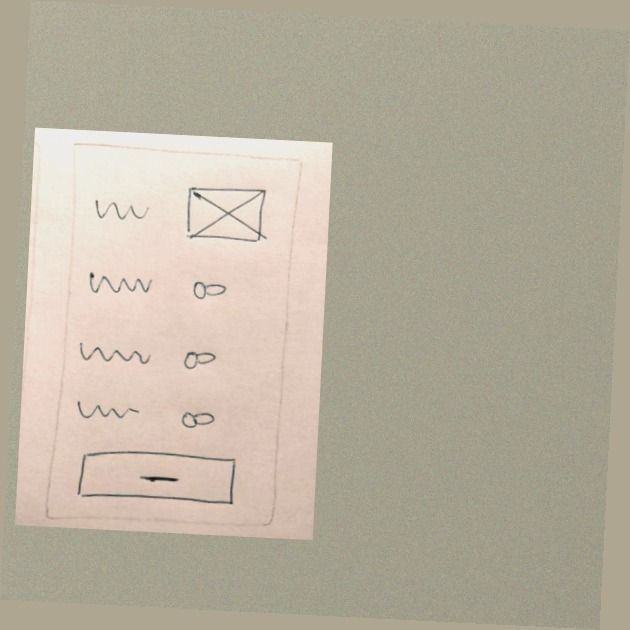button: (73, 443, 241, 511)
image: (179, 180, 272, 250)
switch: (175, 342, 224, 380), (188, 272, 235, 308), (174, 402, 221, 435)
text: (77, 336, 155, 375), (90, 190, 157, 232), (81, 266, 158, 300), (68, 395, 147, 428)
